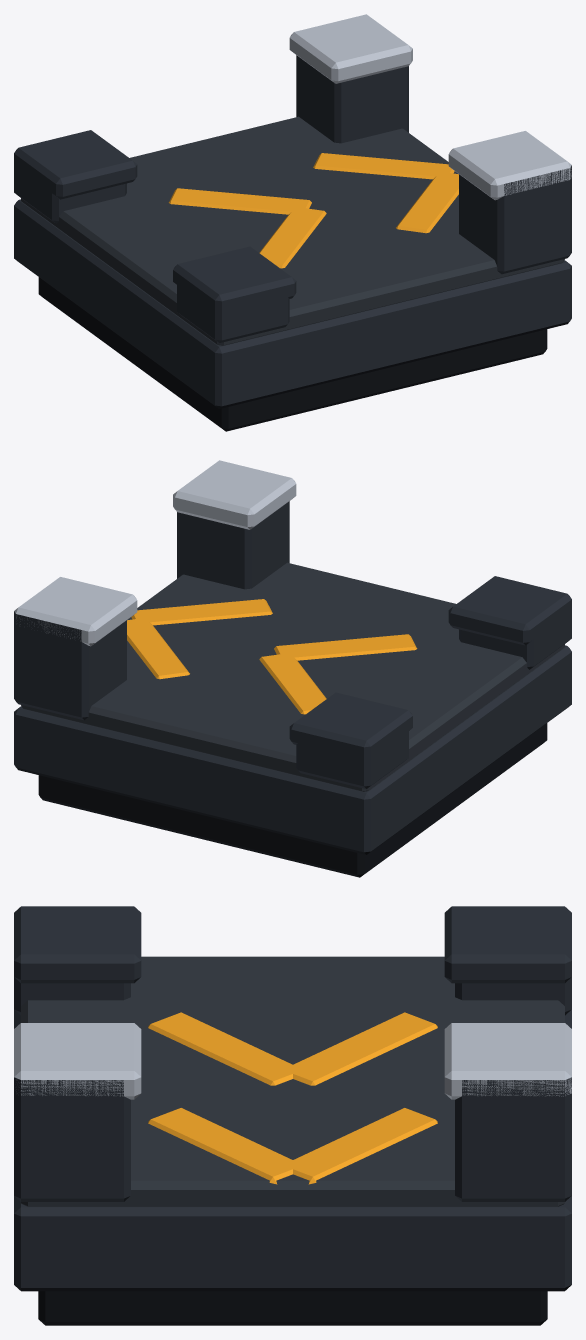
File: belt-merger.glb
3 views of the same model, one above another, from view 1: azimuth 30°, elevation 25°; view 2: azimuth 150°, elevation 25°; view 3: azimuth 270°, elevation 25° (orthographic). The views are drawn at different scales.
Parts seen in each view (by area): view 1: belt-merger; view 2: belt-merger; view 3: belt-merger.
Part boxes in pixels (left/top/right/bottom): belt-merger: left=14, top=14, right=571, bottom=431; belt-merger: left=14, top=460, right=571, bottom=877; belt-merger: left=14, top=906, right=571, bottom=1325.
Bounding box in the file's own units: 0.964 × 0.55 × 0.964.
